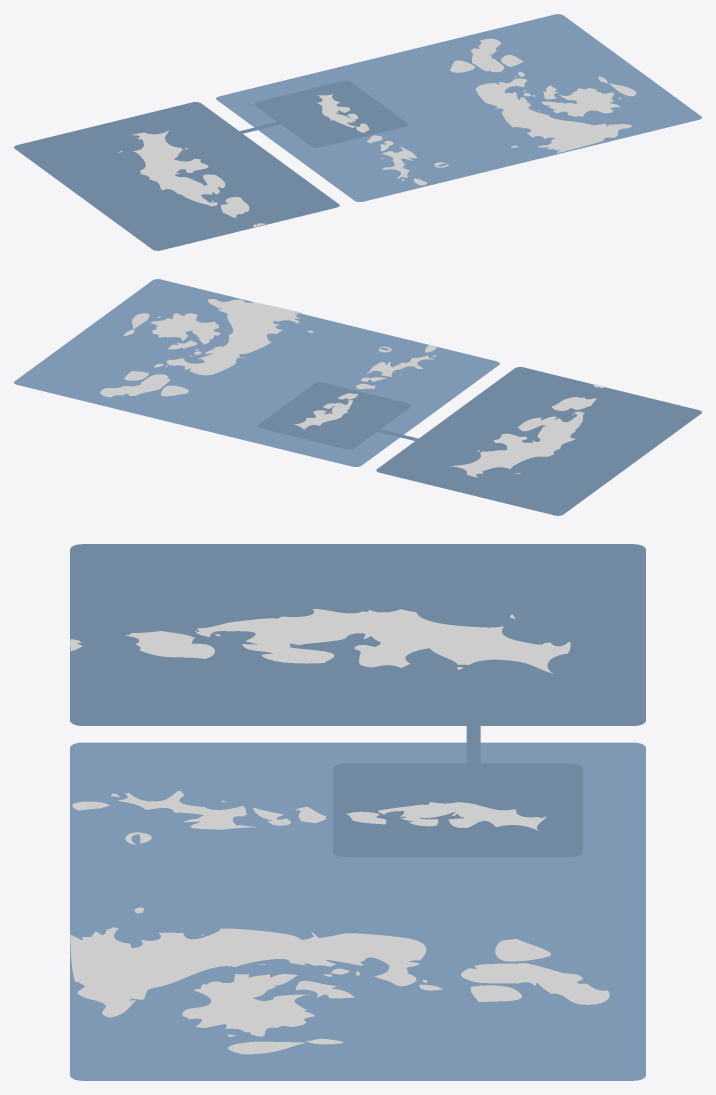
Rendered from rey jorge.fbx.
The picture shows the model from 3 angles, top to bottom: view 1: azimuth 30°, elevation 25°; view 2: azimuth 150°, elevation 25°; view 3: azimuth 270°, elevation 25°; orthographic projection. The views are drawn at different scales.
Parts seen in each view (by area): view 1: Curve, Curve.002, Curve.004, Curve.001; view 2: Curve, Curve.002, Curve.004, Curve.001; view 3: Curve, Curve.002, Curve.004, Curve.001.
Boxes of the visible parts, <box> form: Curve: <box>216,14,701,201</box>; Curve.002: <box>14,102,339,250</box>; Curve.004: <box>118,38,636,226</box>; Curve.001: <box>254,80,407,147</box>; Curve: <box>14,279,499,466</box>; Curve.002: <box>376,367,701,515</box>; Curve.004: <box>100,299,604,477</box>; Curve.001: <box>258,382,411,449</box>; Curve: <box>70,742,645,1080</box>; Curve.002: <box>70,544,645,725</box>; Curve.004: <box>70,609,609,1054</box>; Curve.001: <box>333,763,582,857</box>.
Bounding box in the file's own units: 1009 × 2 × 459.
